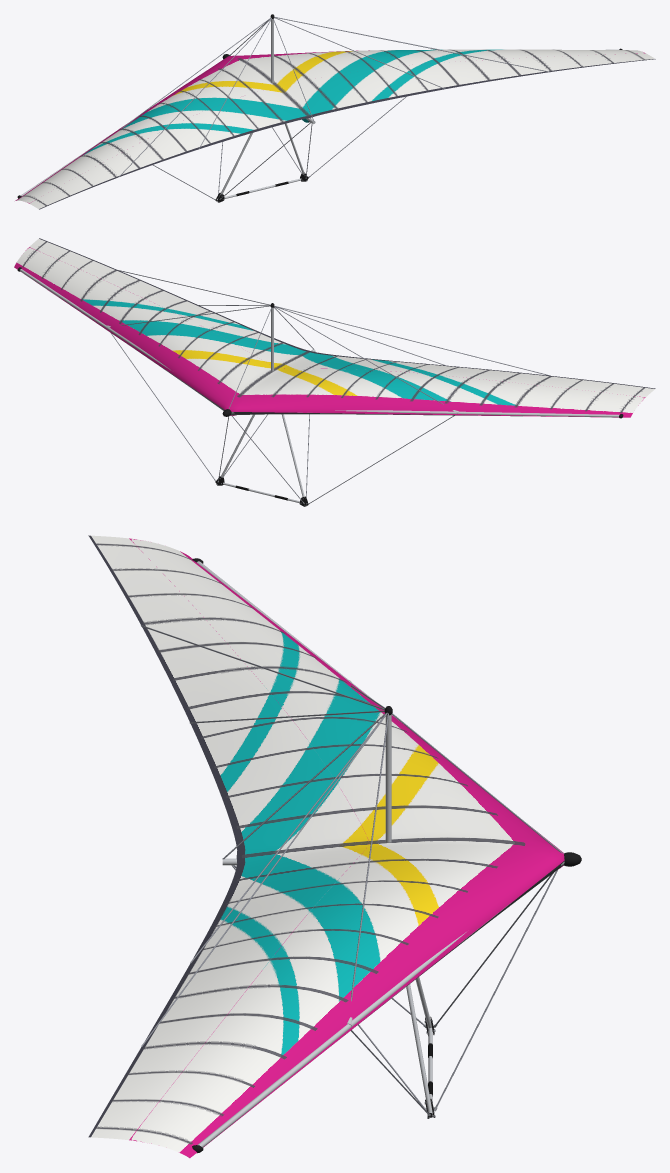
File: glider_magic.glb
3 views of the same model, one above another, from view 1: azimuth 30°, elevation 25°; view 2: azimuth 150°, elevation 25°; view 3: azimuth 270°, elevation 25° (orthographic). The views are drawn at different scales.
Visible parts, largest first — view 1: Sail, Frame, ControlFrame; view 2: Sail, Frame, ControlFrame; view 3: Sail, Frame, ControlFrame.
Boxes of the visible parts, x1,y1,x2,y2 form: Sail: (15, 49, 655, 209); Frame: (17, 14, 622, 198); ControlFrame: (153, 96, 406, 202); Sail: (14, 238, 655, 417); Frame: (17, 267, 623, 418); ControlFrame: (111, 333, 454, 506); Sail: (88, 535, 564, 1158); Frame: (141, 558, 581, 1153); ControlFrame: (231, 865, 558, 1118).
Size of the model in its own units: 10.26 by 2.94 by 3.55.
8 materials, 1 textured.
